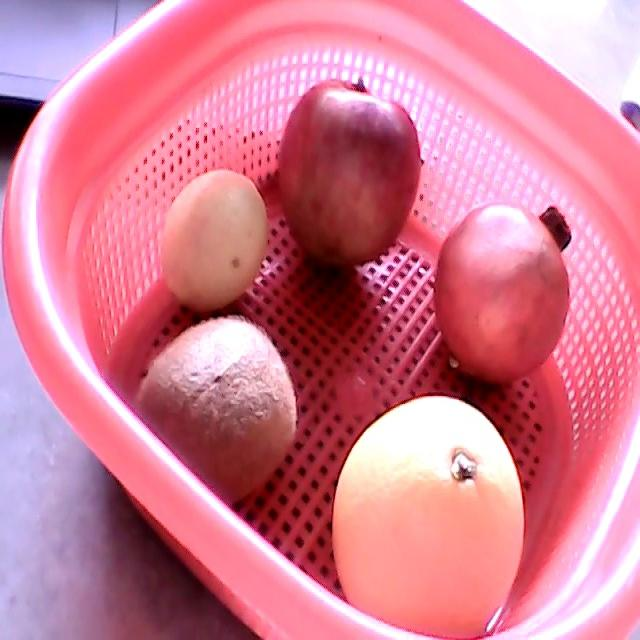apple: (278, 76, 422, 266)
kiwi: (128, 313, 298, 504)
lemon: (158, 170, 266, 312)
orange: (332, 396, 525, 637)
pomegranate: (434, 202, 570, 384)
